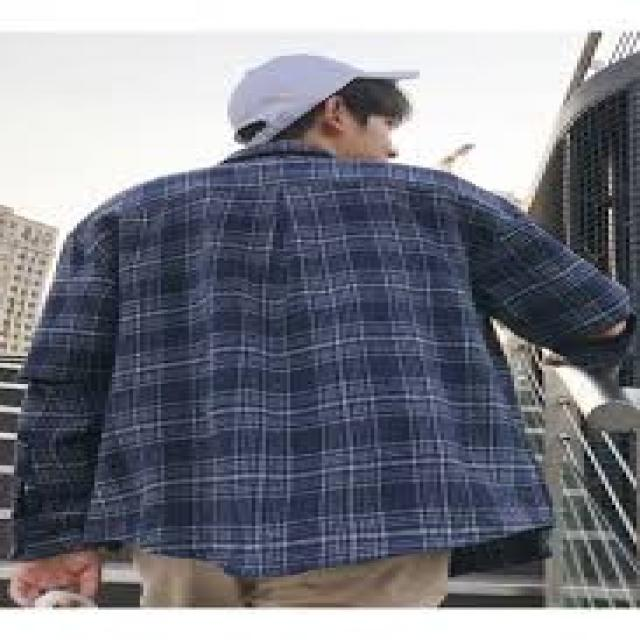plaid: (8, 162, 640, 557)
